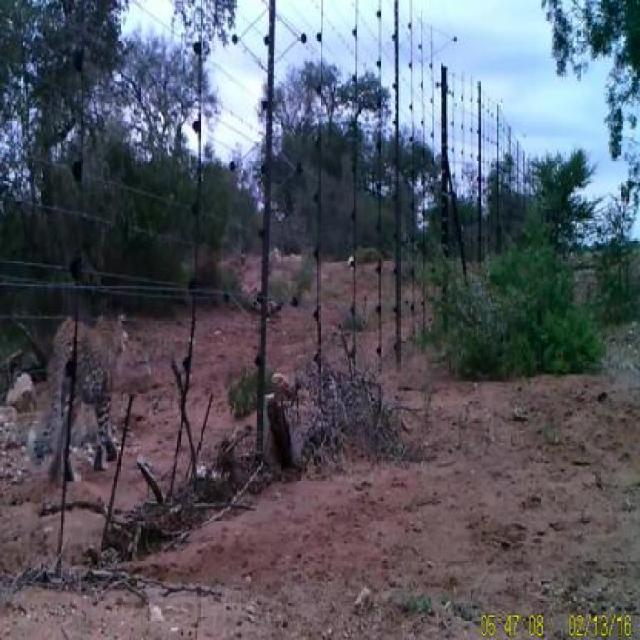Leopard: (26, 269, 140, 516)
